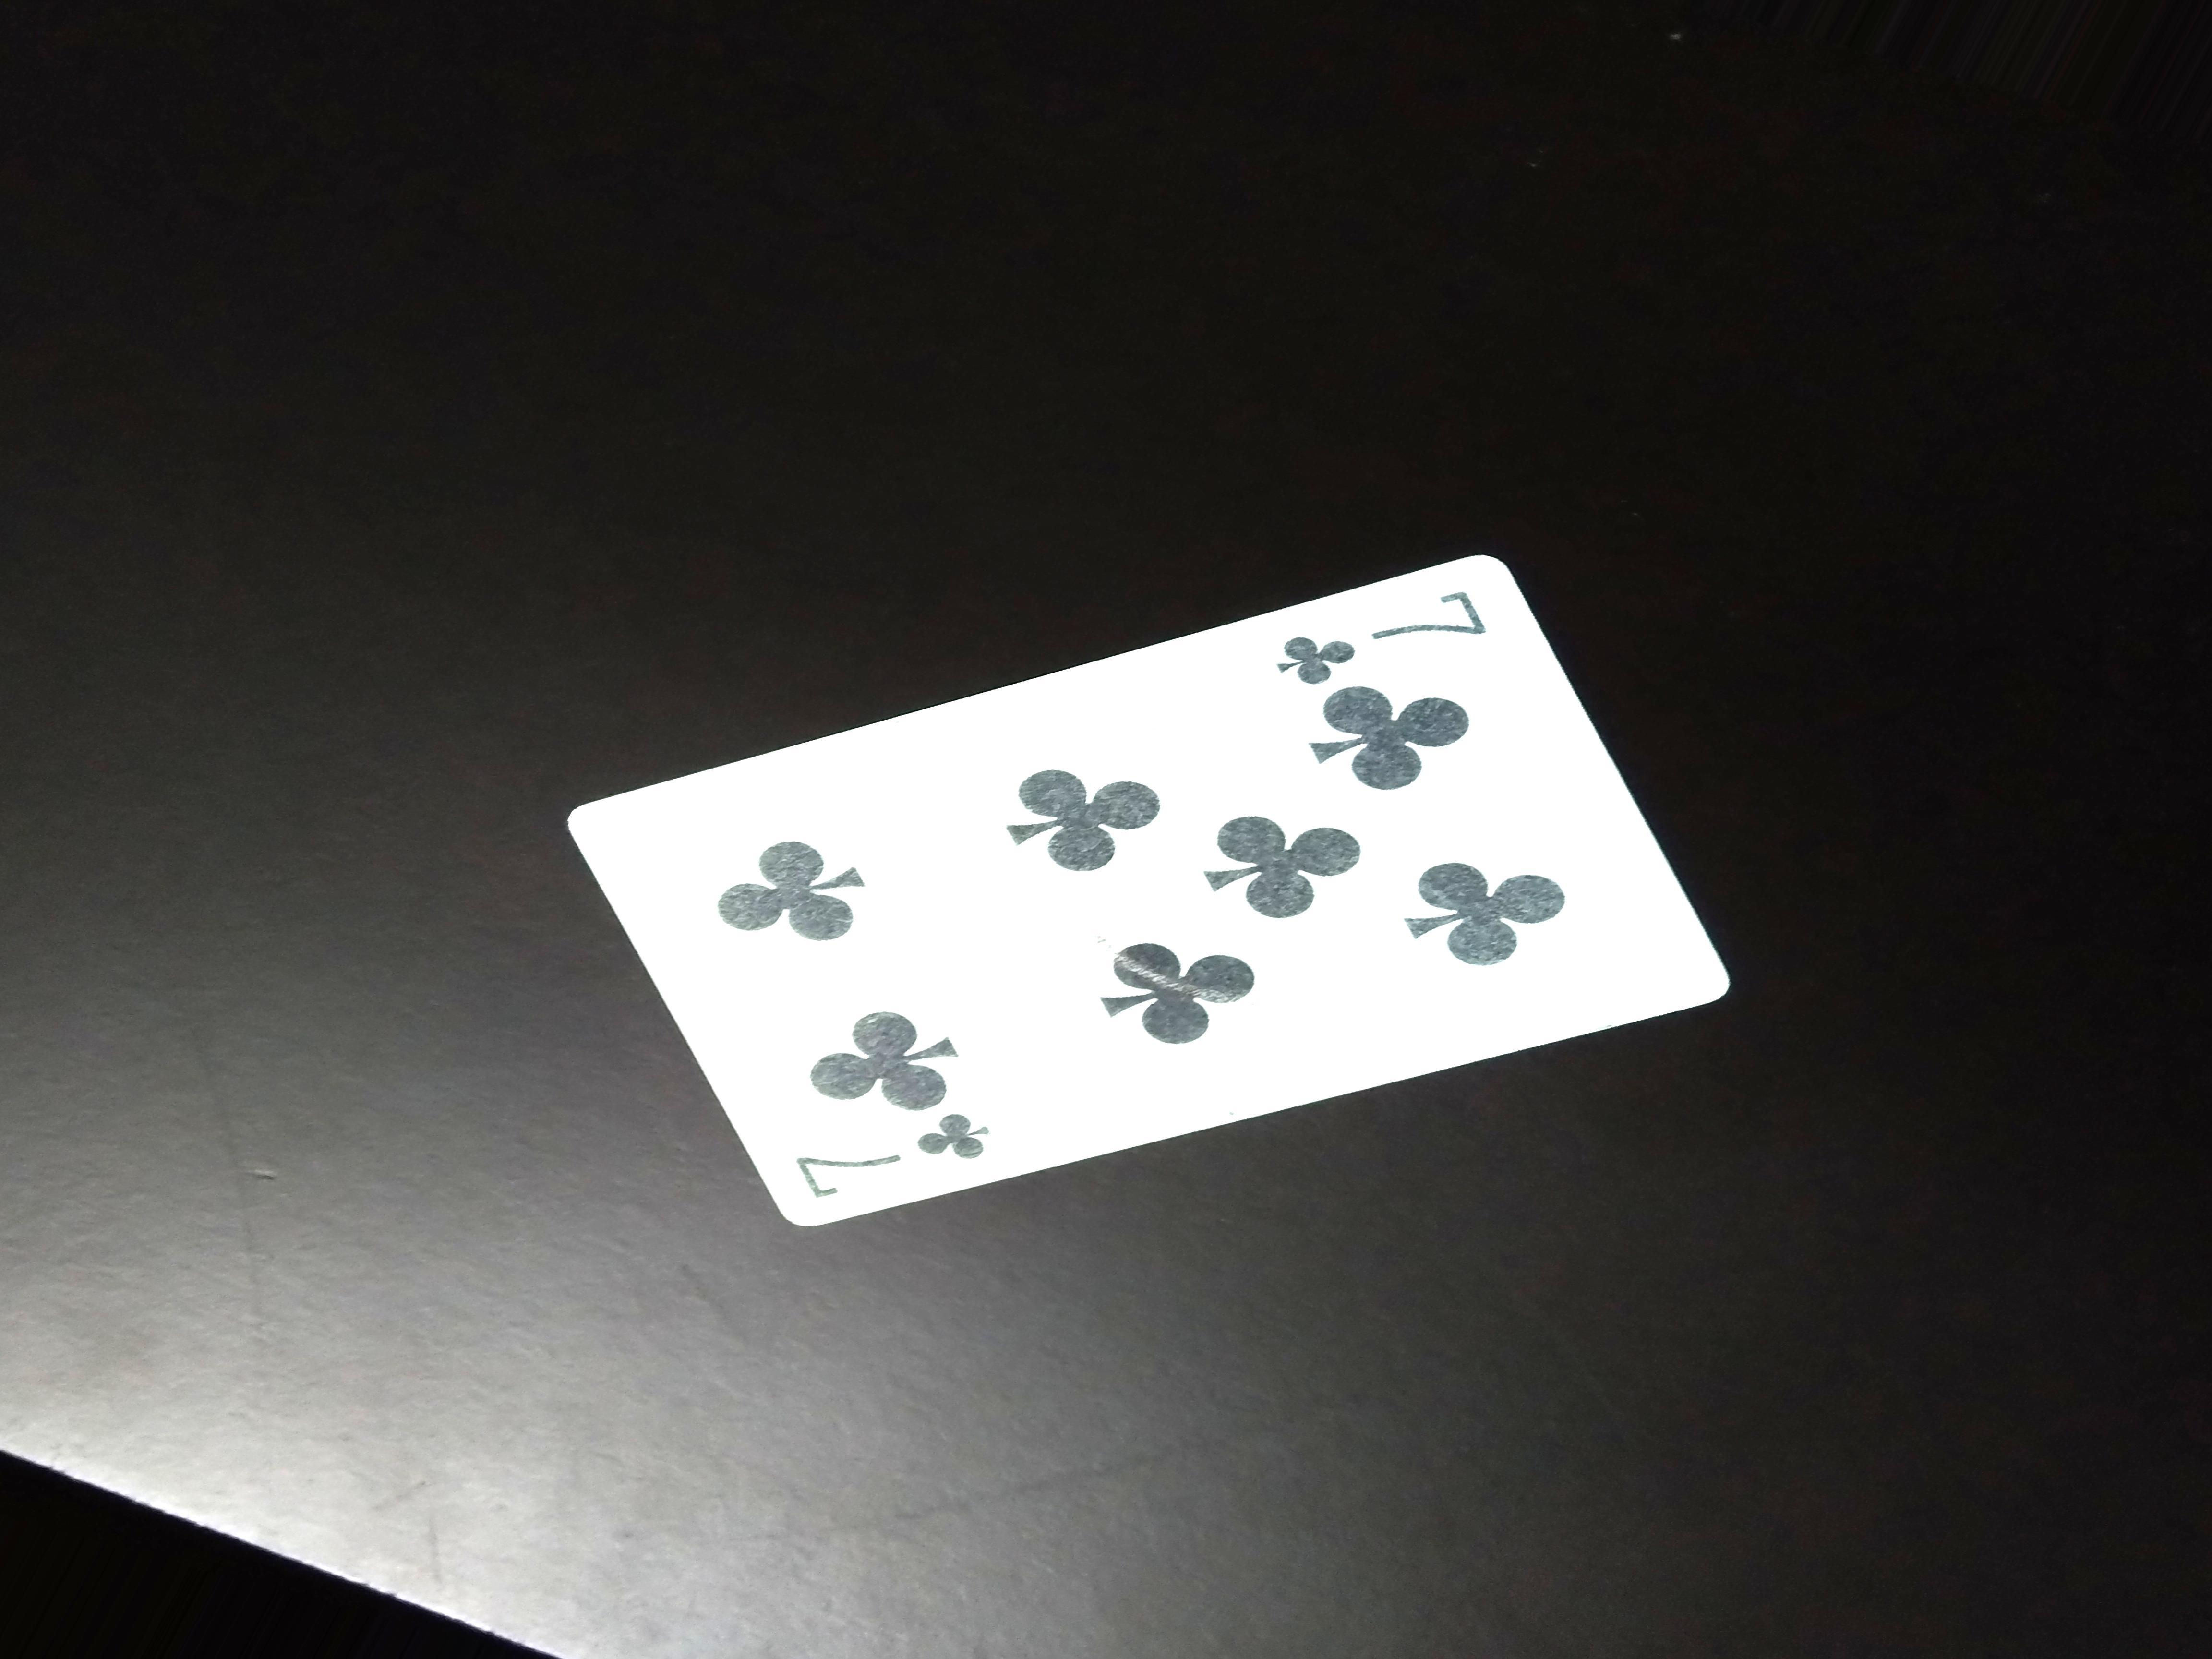7C: (765, 1112, 1000, 1197)
